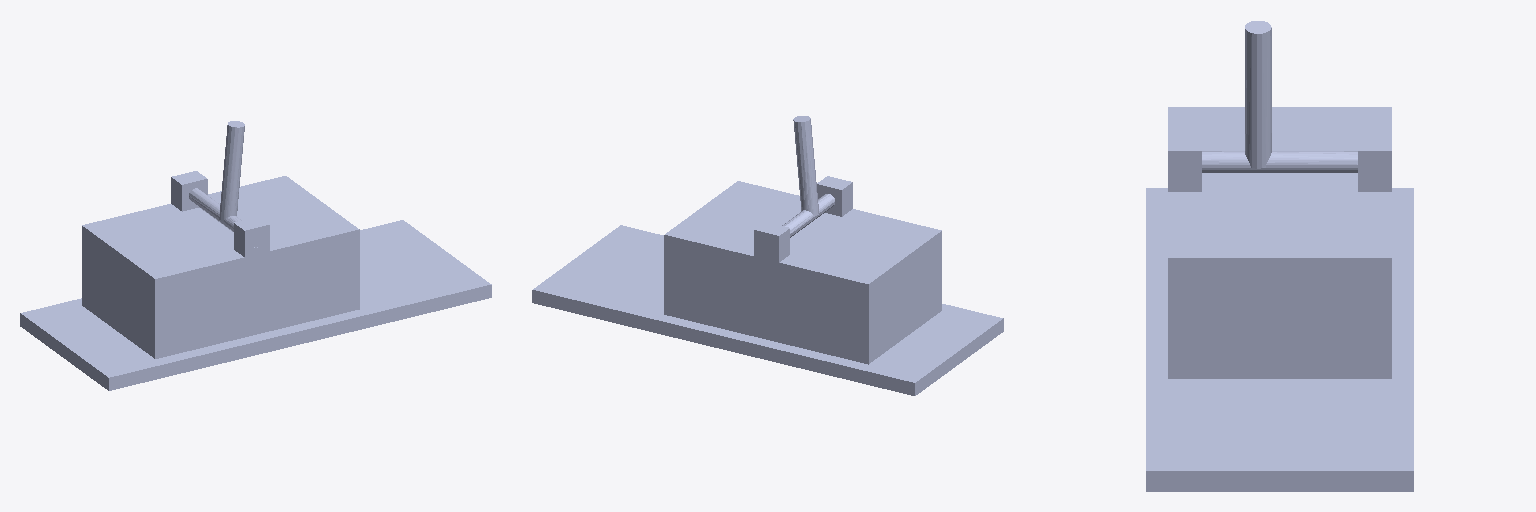
robot.urdf — Inverted:
<?xml version="1.0" encoding="utf-8"?>
<!-- This URDF was automatically created by SolidWorks to URDF Exporter! Originally created by [author] ([email redacted]) 
     Commit Version: 1.6.0-4-g7f85cfe  Build Version: 1.6.7995.38578
     For more information, please see http://wiki.ros.org/sw_urdf_exporter -->
<robot
  name="Inverted">
  <link
    name="base_link">
    <inertial>
      <origin
        xyz="9.41147719171446E-20 -0.005 -1.27612101537895E-17"
        rpy="0 0 0" />
      <mass
        value="0.36" />
      <inertia
        ixx="0.000435"
        ixy="5.48063399380373E-39"
        ixz="-7.97183126371452E-38"
        iyy="0.003132"
        iyz="-1.37015849845093E-37"
        izz="0.002703" />
    </inertial>
    <visual>
      <origin
        xyz="0 0 0"
        rpy="0 0 0" />
      <geometry>
        <mesh
          filename="meshes/base_link.STL" />
      </geometry>
      <material
        name="">
        <color
          rgba="0.792156862745098 0.819607843137255 0.933333333333333 1" />
      </material>
    </visual>
    <collision>
      <origin
        xyz="0 0 0"
        rpy="0 0 0" />
      <geometry>
        <mesh
          filename="meshes/base_link.STL" />
      </geometry>
    </collision>
  </link>
  <link
    name="Link 1">
    <inertial>
      <origin
        xyz="-0.080001300538417 0.0303978287884689 0.01"
        rpy="0 0 0" />
      <mass
        value="0.969643805509808" />
      <inertia
        ixx="0.00112126184431704"
        ixy="4.9940675211926E-08"
        ixz="4.92080138273582E-20"
        iyy="0.00286598534972227"
        iyz="-5.54499201811117E-22"
        izz="0.00235204730392851" />
    </inertial>
    <visual>
      <origin
        xyz="0 0 0"
        rpy="0 0 0" />
      <geometry>
        <mesh
          filename="meshes/Link 1.STL" />
      </geometry>
      <material
        name="">
        <color
          rgba="0.792156862745098 0.819607843137255 0.933333333333333 1" />
      </material>
    </visual>
    <collision>
      <origin
        xyz="0 0 0"
        rpy="0 0 0" />
      <geometry>
        <mesh
          filename="meshes/Link 1.STL" />
      </geometry>
    </collision>
  </link>
  <joint
    name="Joint 0"
    type="prismatic">
    <origin
      xyz="0.052321 0.01 0"
      rpy="1.5708 0 0" />
    <parent
      link="base_link" />
    <child
      link="Link 1" />
    <axis
      xyz="1 0 0" />
    <limit
      lower="0"
      upper="0"
      effort="0"
      velocity="0" />
  </joint>
  <link
    name="Link 2">
    <inertial>
      <origin
        xyz="7.37800101360819E-08 0.0179967913638322 0.0147589901554167"
        rpy="0 0 0" />
      <mass
        value="0.0153450624731169" />
      <inertia
        ixx="1.49832708606931E-05"
        ixy="1.37879357943612E-11"
        ixz="-1.96778957549863E-11"
        iyy="7.09426238566816E-06"
        iyz="-1.37791984023545E-06"
        izz="8.12496286448383E-06" />
    </inertial>
    <visual>
      <origin
        xyz="0 0 0"
        rpy="0 0 0" />
      <geometry>
        <mesh
          filename="meshes/Link 2.STL" />
      </geometry>
      <material
        name="">
        <color
          rgba="0.792156862745098 0.819607843137255 0.933333333333333 1" />
      </material>
    </visual>
    <collision>
      <origin
        xyz="0 0 0"
        rpy="0 0 0" />
      <geometry>
        <mesh
          filename="meshes/Link 2.STL" />
      </geometry>
    </collision>
  </link>
  <joint
    name="Joint 2"
    type="continuous">
    <origin
      xyz="-0.08 0.07 0"
      rpy="0 0 -0.09439" />
    <parent
      link="Link 1" />
    <child
      link="Link 2" />
    <axis
      xyz="0 0 1" />
  </joint>
</robot>

--- What the picture shows (computed from the rendered views, not written in the file) ---
3 views of the same robot in one strip: view 1: azimuth 30°, elevation 25°; view 2: azimuth 150°, elevation 25°; view 3: azimuth 270°, elevation 25° (orthographic).
Robot: Inverted — 3 links, 2 joints (1 continuous, 1 prismatic); root link base_link; default pose: every joint at zero.
Visible links, largest first — view 1: Link 1, base_link, Link 2; view 2: Link 1, base_link, Link 2; view 3: Link 1, base_link, Link 2.
Link boxes in pixels (x1,y1,x2,y2): Link 1: (82, 171, 359, 358); base_link: (20, 220, 491, 390); Link 2: (189, 121, 263, 247); Link 1: (664, 176, 941, 364); base_link: (532, 225, 1003, 395); Link 2: (760, 116, 834, 252); Link 1: (1168, 107, 1391, 378); base_link: (1146, 188, 1413, 491); Link 2: (1202, 21, 1357, 172).
Size in the robot's own frame: 0.3 by 0.12 by 0.1503 metres.
3 mesh visuals loaded from 3 distinct referenced files (3 binary STL).